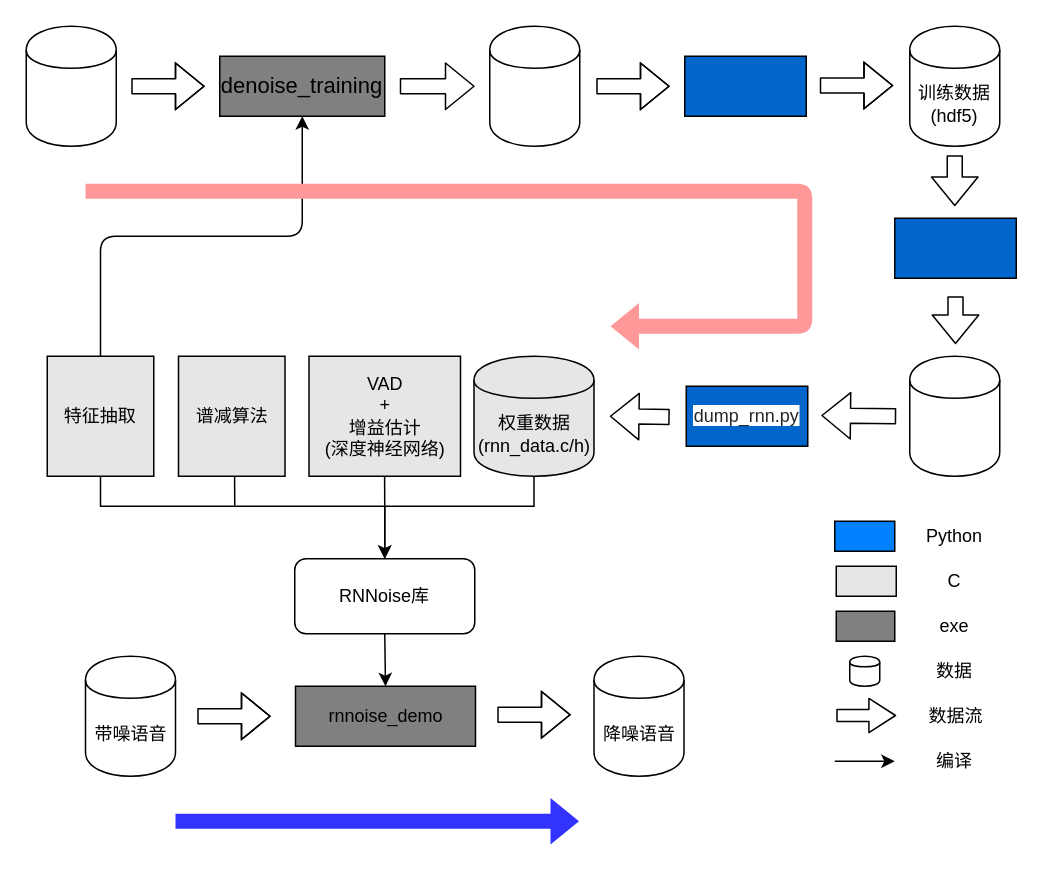
Some shapes in this 1043 by 870 pixel diagram are drawn without their labels. The shapes that lost their labels are listed below. From the top down, each one's centre as x and y in pixels, then its label:
At point (70, 85): "语音 + 噪音".
At point (534, 85): "训练数据 (f32)".
At point (744, 85): "bin2hdf5.py".
At point (954, 247): "rnn_train.py".
At point (954, 415): "权重数据 (hdf5)".
